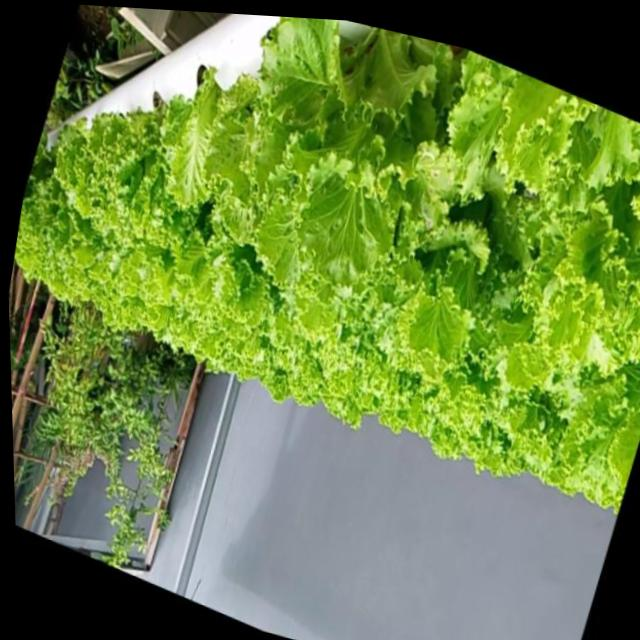Mature: (20, 22, 640, 546), (228, 23, 432, 315), (30, 105, 196, 301)
